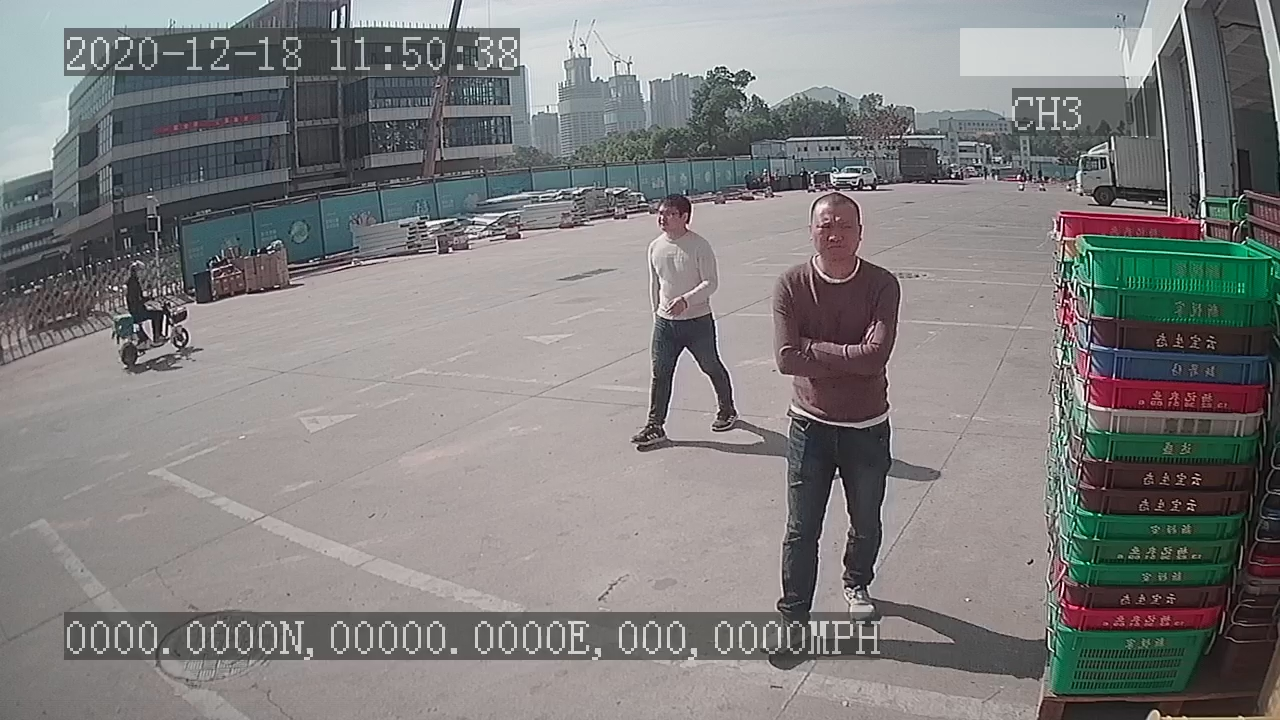person: (624, 188, 740, 452)
